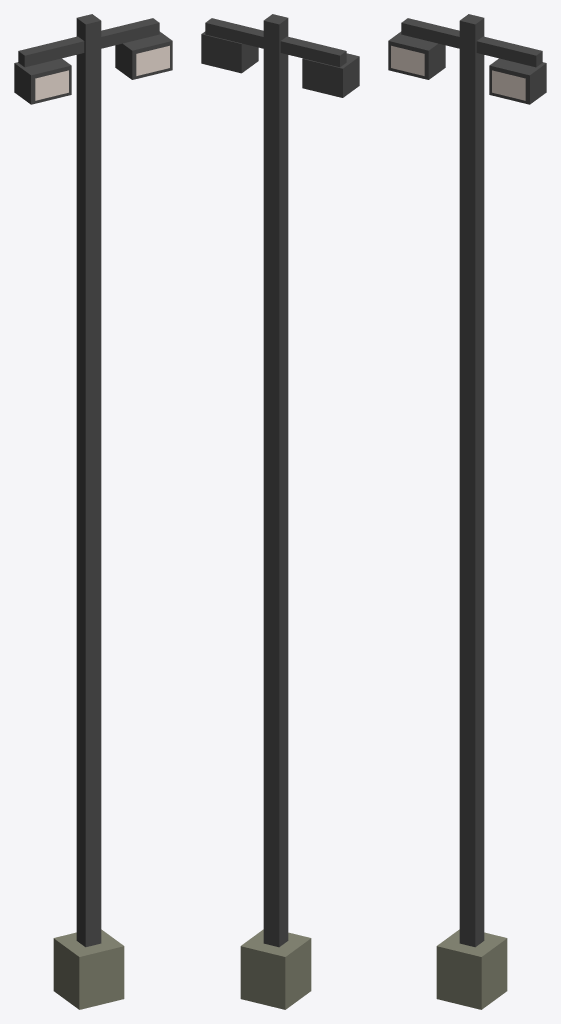
The model's file is site_light.fbx.
3 views of the same model, side by side, from view 1: azimuth 30°, elevation 25°; view 2: azimuth 150°, elevation 25°; view 3: azimuth 330°, elevation 25° (orthographic).
Visible parts, largest first — view 1: a1062/0/site_light; view 2: a1062/0/site_light; view 3: a1062/0/site_light.
Part boxes in pixels (x1,y1,x2,y2): a1062/0/site_light: [14, 14, 172, 1009]; a1062/0/site_light: [201, 14, 359, 1009]; a1062/0/site_light: [388, 14, 546, 1009].
Bounding box in the file's own units: 1.26 × 8.3 × 0.41.
